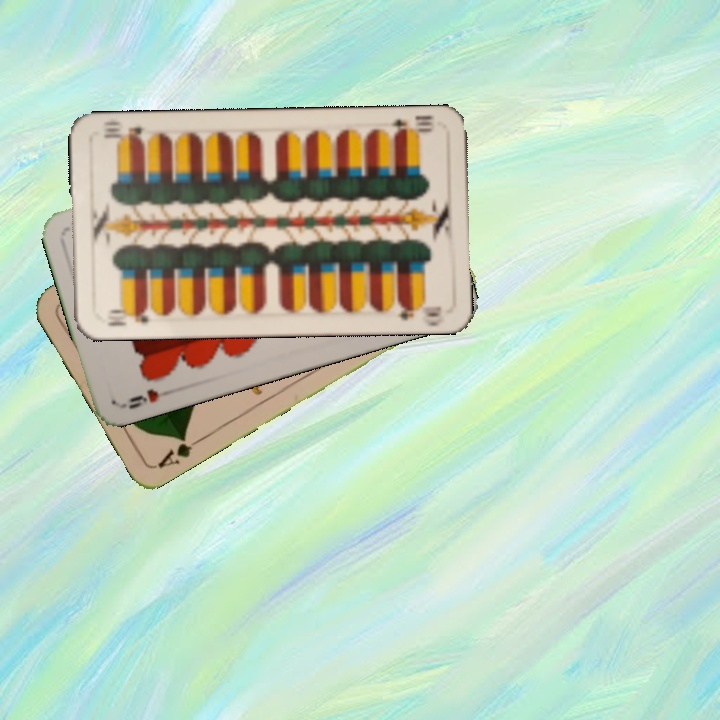E10: (387, 112, 434, 140), (104, 304, 151, 329)
GA: (153, 431, 206, 471)
H9: (117, 384, 161, 412)
